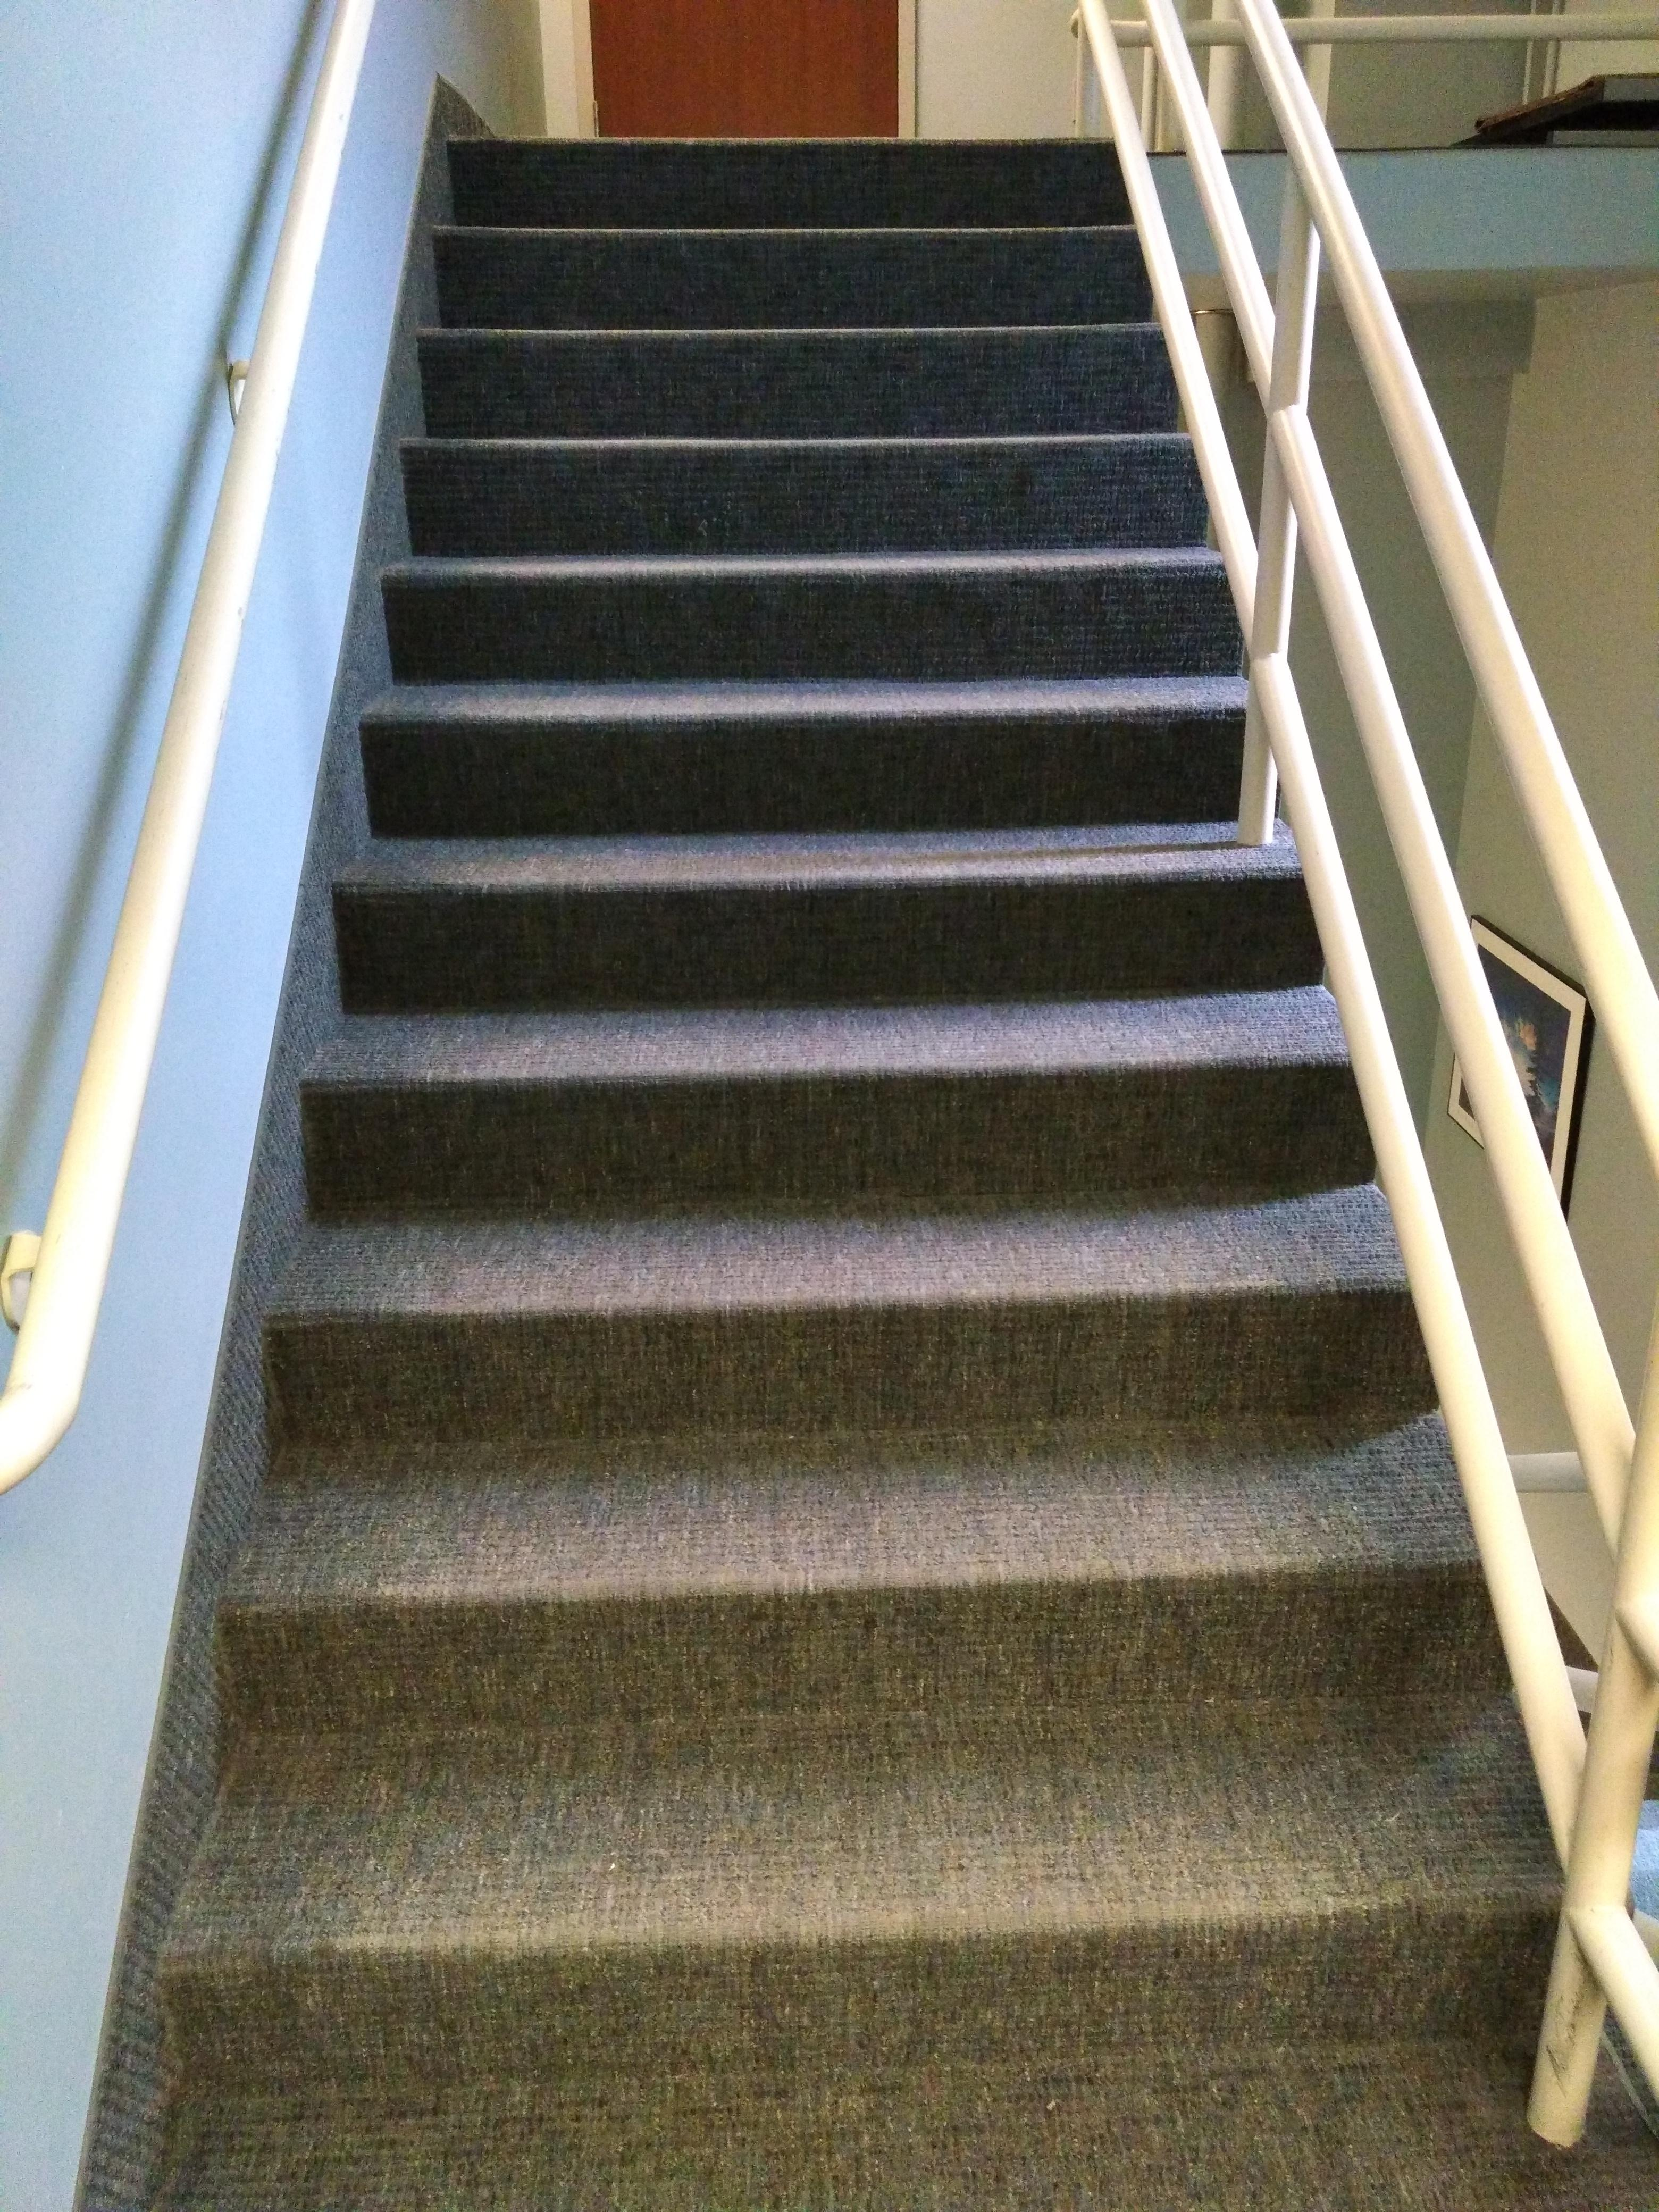stairs_up: (146, 68, 1617, 2027)
